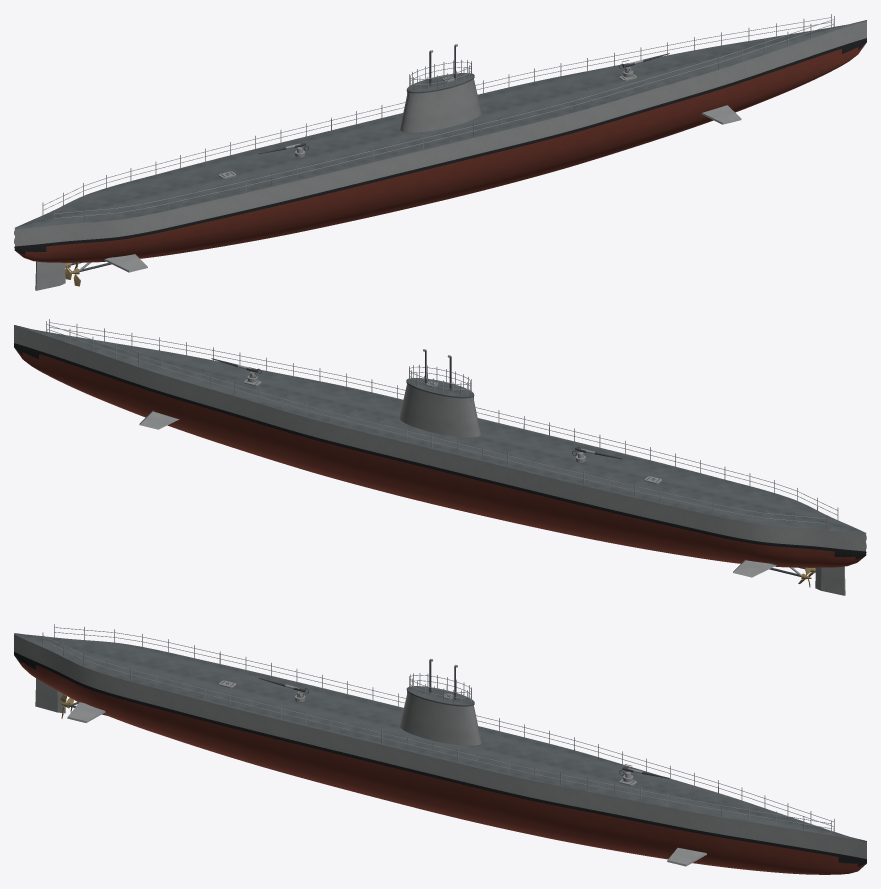
Rendered from provana.glb.
The picture shows the model from 3 angles, top to bottom: view 1: azimuth 30°, elevation 25°; view 2: azimuth 150°, elevation 25°; view 3: azimuth 330°, elevation 25°; orthographic projection.
Visible parts, largest first — view 1: Provana class; view 2: Provana class; view 3: Provana class.
Boxes of the visible parts, x1=… form: Provana class: x1=14, y1=14, x2=866, y2=290; Provana class: x1=14, y1=319, x2=866, y2=595; Provana class: x1=14, y1=624, x2=866, y2=874.
Bounding box in the file's own units: 67 × 11.09 × 8.42.
6 materials, 6 textured.
